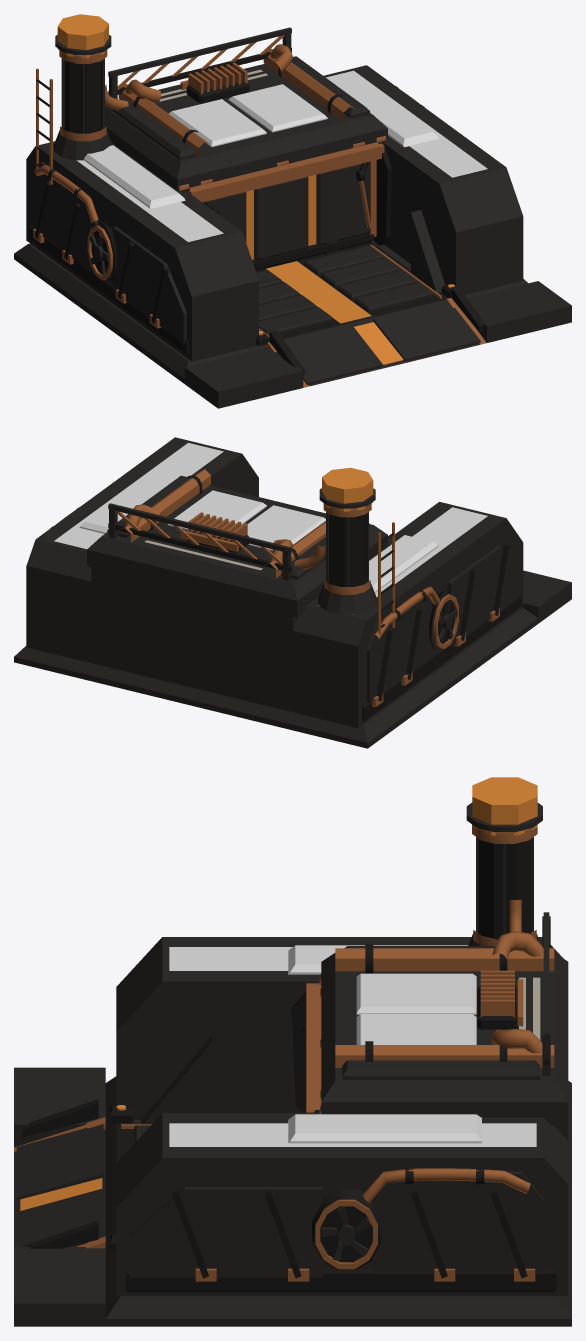
Rendered from str_t2_fac_land.85004155.raw.glb.
3 renders of one model, top to bottom at view 1: azimuth 30°, elevation 25°; view 2: azimuth 150°, elevation 25°; view 3: azimuth 270°, elevation 25°, orthographic. The views are drawn at different scales.
Parts seen in each view (by area): view 1: lod0; view 2: lod0; view 3: lod0.
Part boxes in pixels (bbox=[...]): lod0: bbox=[14, 14, 571, 408]; lod0: bbox=[14, 437, 571, 748]; lod0: bbox=[14, 777, 571, 1326].
Size of what is drawn, in the model's own units: 4.94 by 3.22 by 4.94.
